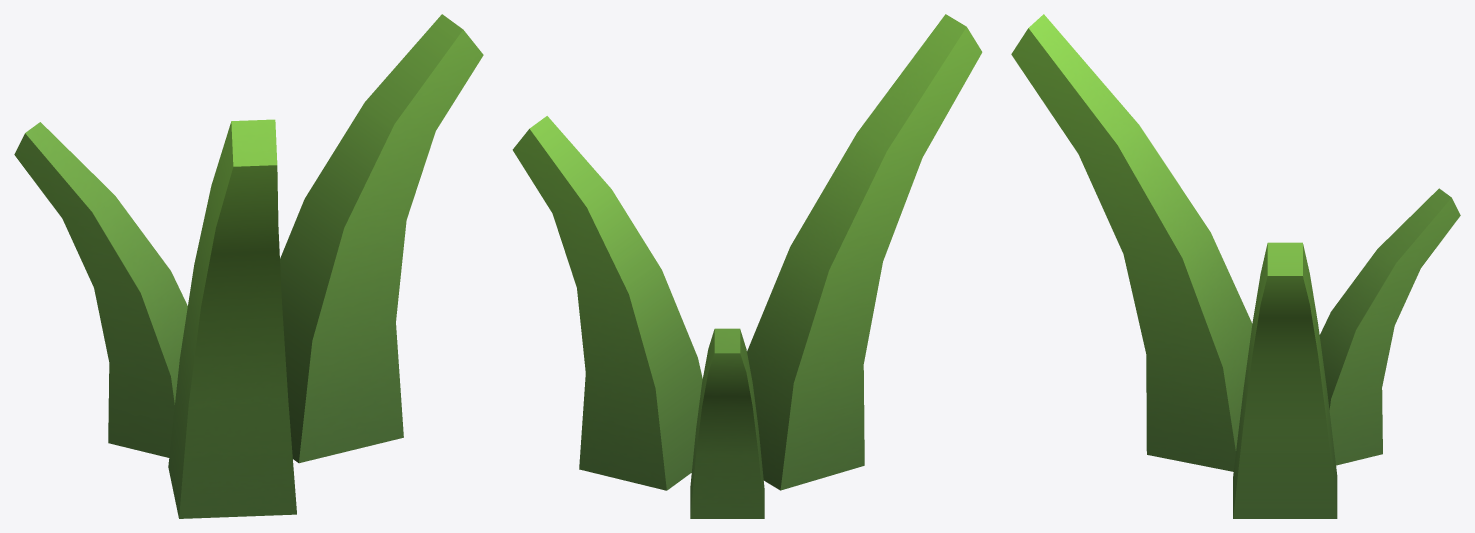
Rendered from Grass.FBX.
3 renders of one model, left to right at view 1: azimuth 30°, elevation 25°; view 2: azimuth 150°, elevation 25°; view 3: azimuth 270°, elevation 25°, orthographic. The views are drawn at different scales.
Parts seen in each view (by area): view 1: Grass; view 2: Grass; view 3: Grass.
Boxes of the visible parts, box(x1,y1,x2,y2) form: Grass: box(14, 14, 483, 518); Grass: box(512, 14, 982, 518); Grass: box(1011, 14, 1460, 518).
Size of the model in its own units: 12.16 by 13.8 by 14.44.
